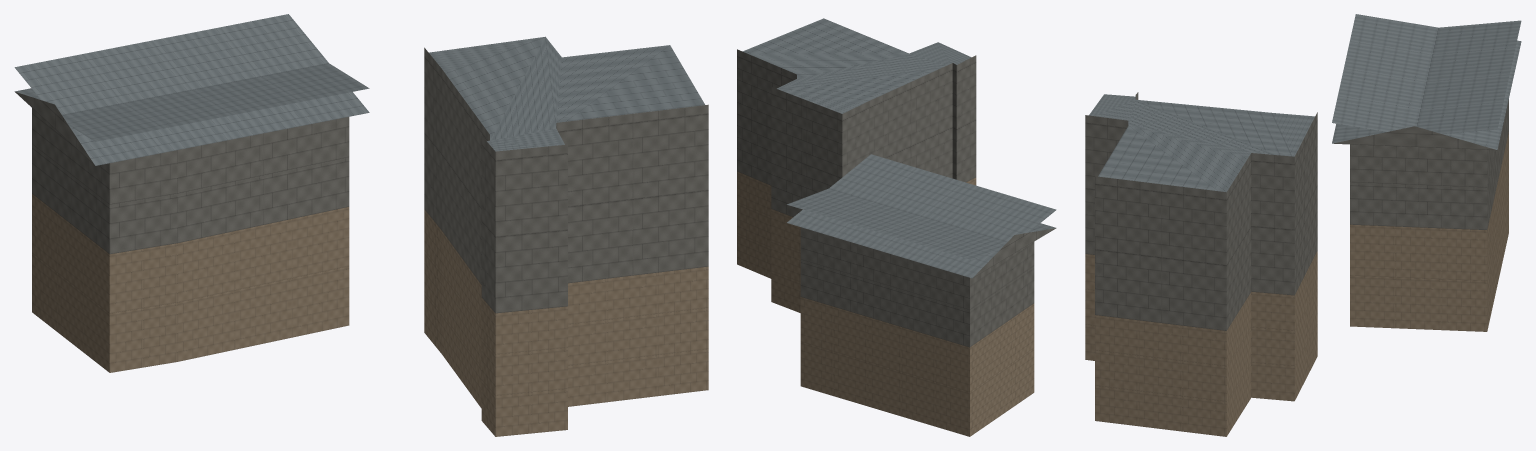
The model's file is bld_c18_-45_631.gltf.
3 views of the same model, side by side, from view 1: azimuth 30°, elevation 25°; view 2: azimuth 150°, elevation 25°; view 3: azimuth 270°, elevation 25° (orthographic). The views are drawn at different scales.
Parts seen in each view (by area): view 1: bld_c18_-45_631; view 2: bld_c18_-45_631; view 3: bld_c18_-45_631.
Part boxes in pixels (x1,y1,x2,y2): bld_c18_-45_631: (14,14,708,436); bld_c18_-45_631: (737,18,1056,436); bld_c18_-45_631: (1085,14,1521,436).
Bounding box in the file's own units: 21.57 × 11.78 × 19.02.
Materials: 4 (4 with a texture image).
